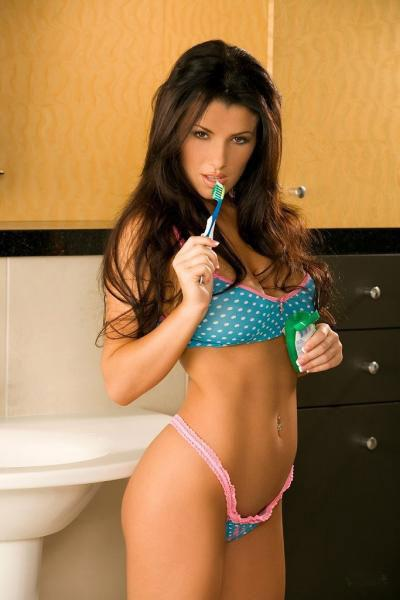person: (100, 42, 344, 600)
